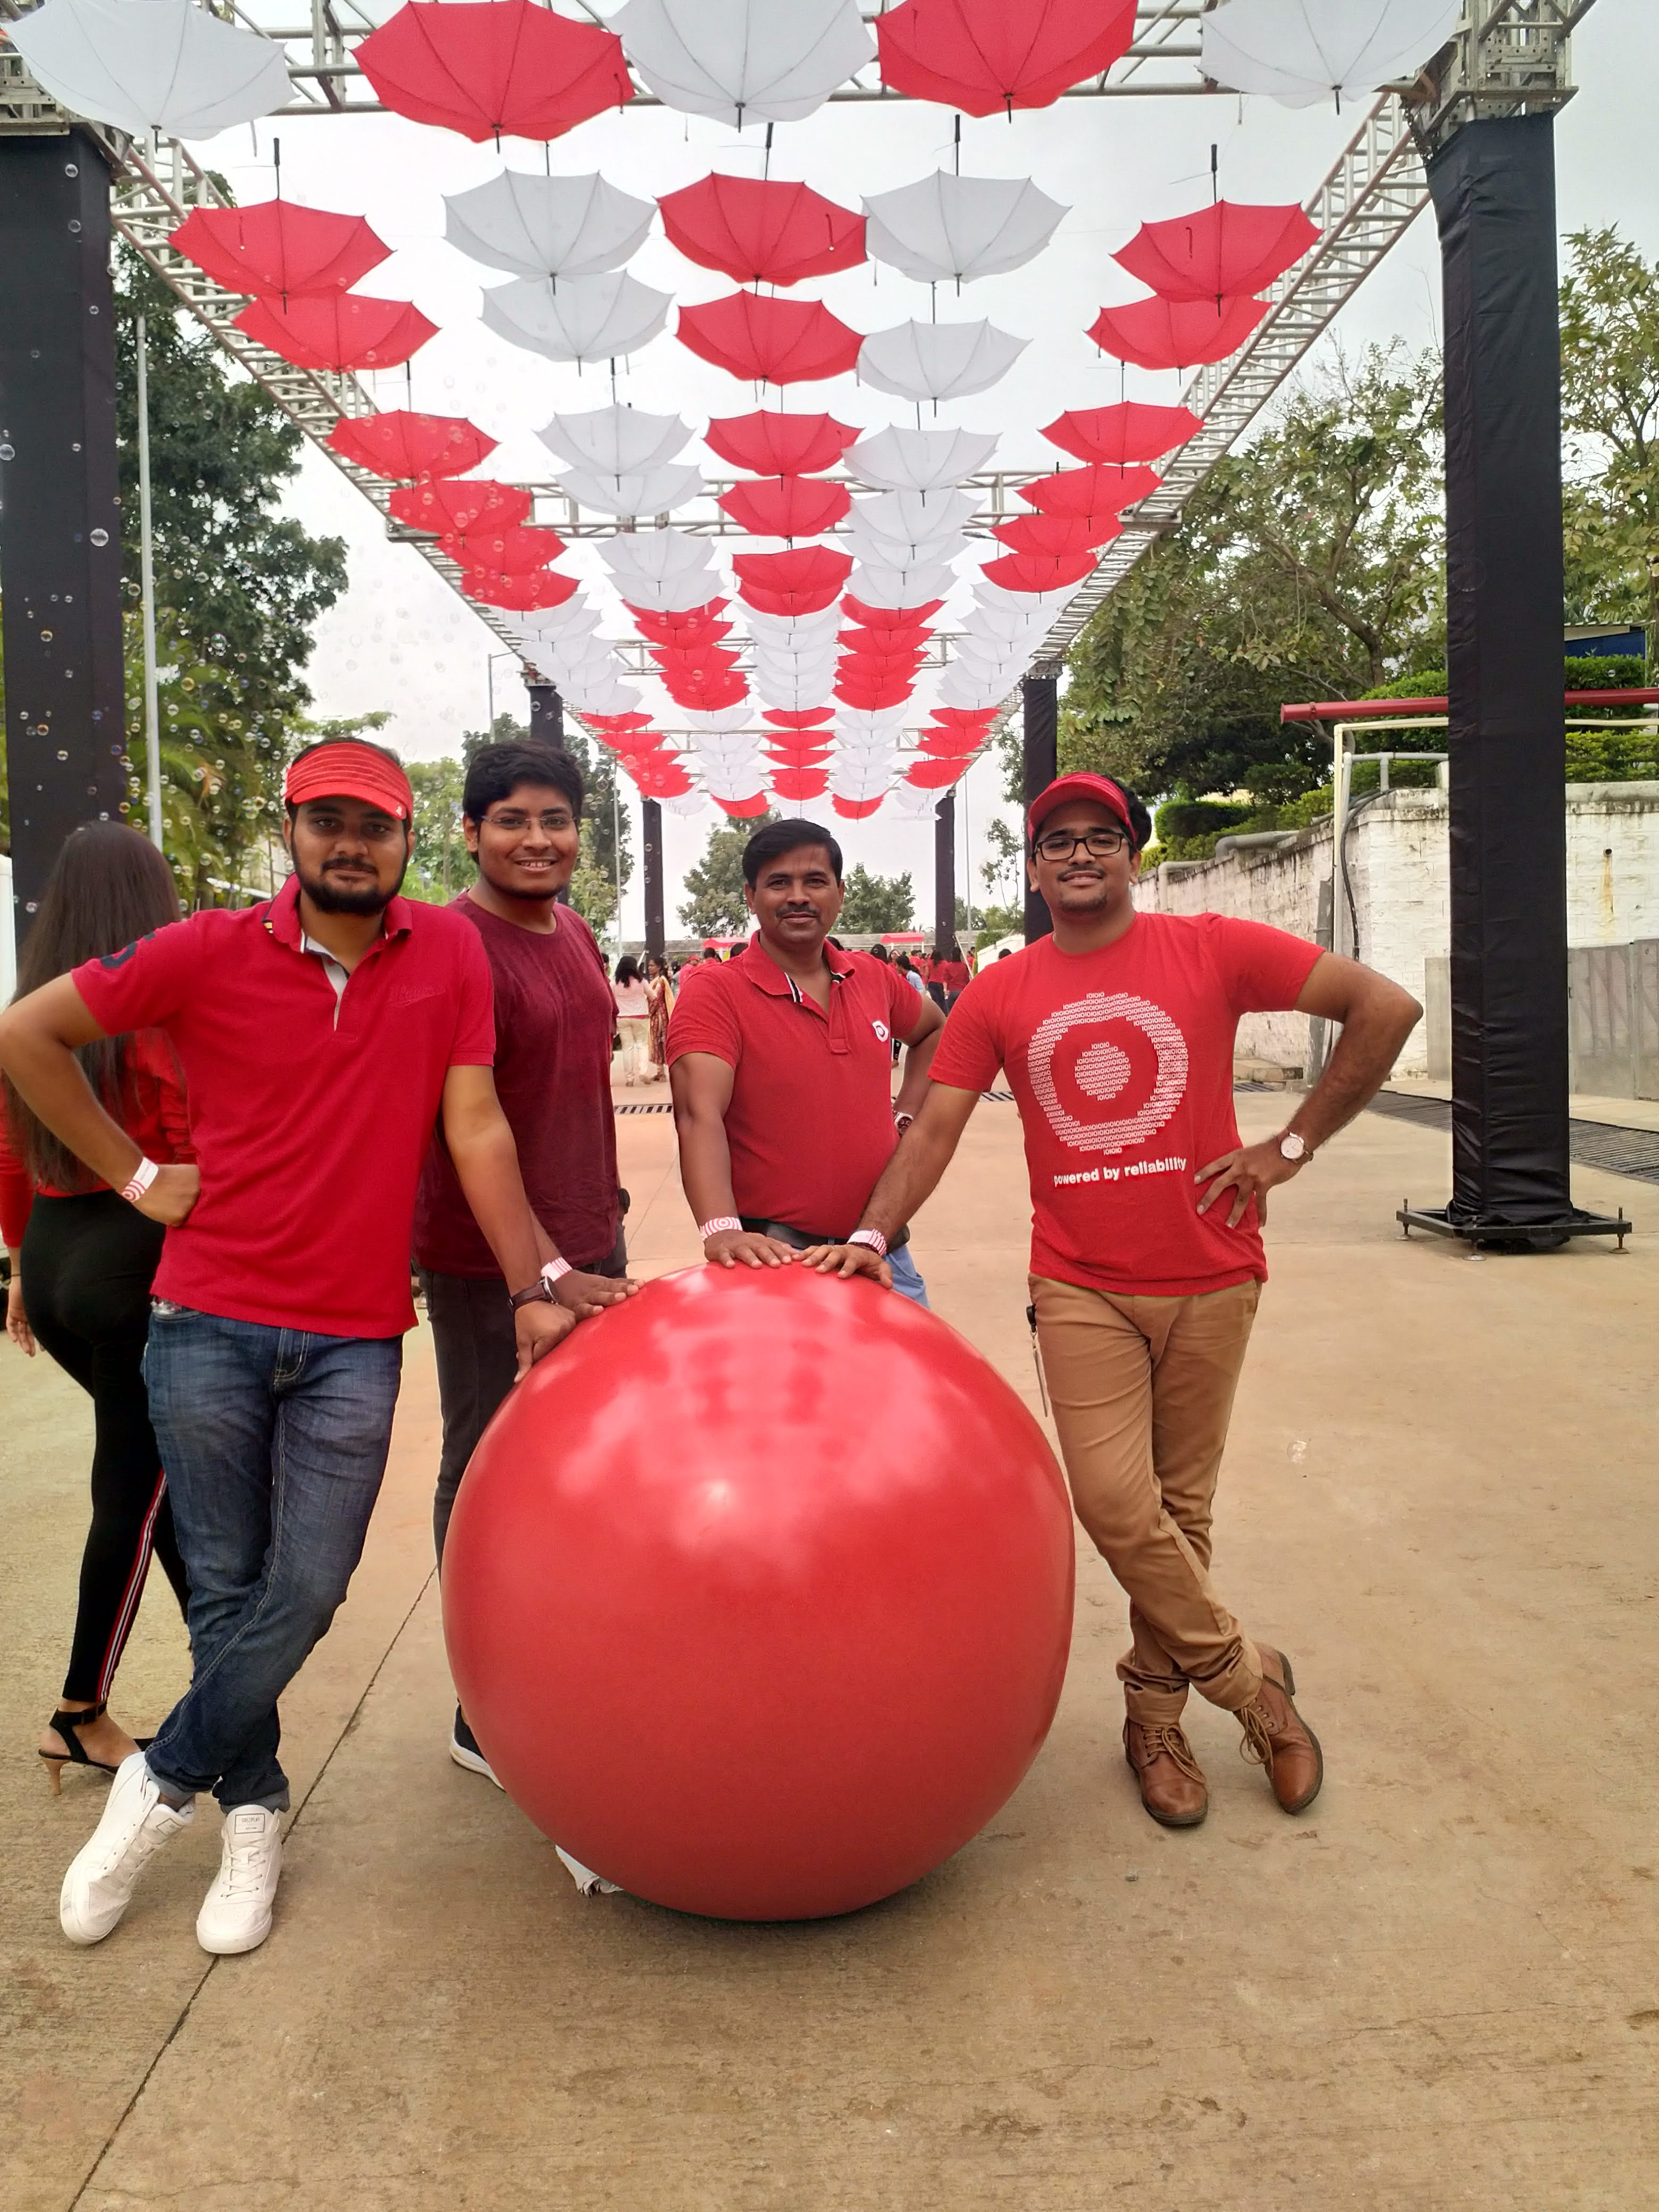bullseye: (1016, 996, 1218, 1169)
